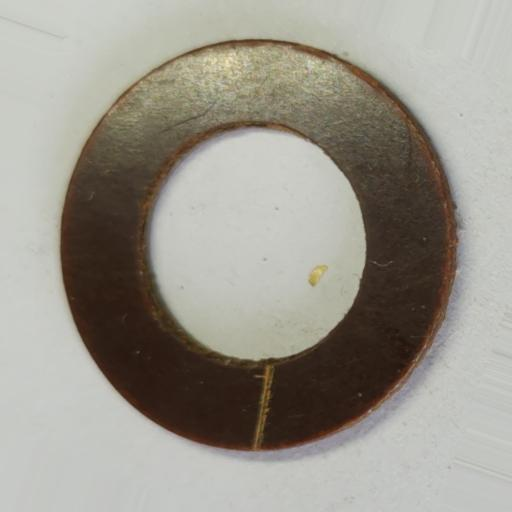defect: (250, 363, 277, 452)
